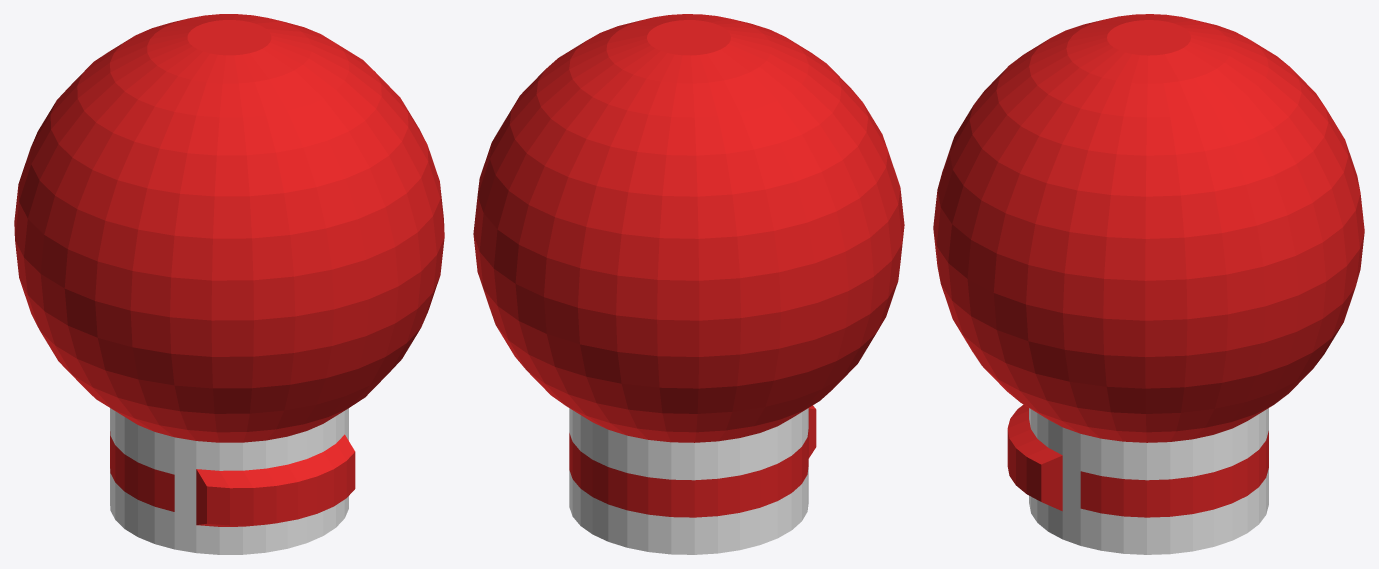
File: guante.fbx
3 views of the same model, side by side, from view 1: azimuth 30°, elevation 25°; view 2: azimuth 150°, elevation 25°; view 3: azimuth 270°, elevation 25° (orthographic).
Visible parts, largest first — view 1: Guante; view 2: Guante; view 3: Guante.
Part boxes in pixels (<box>): Guante: <box>14,14,444,554</box>; Guante: <box>473,14,904,554</box>; Guante: <box>933,14,1364,554</box>.
Size of the model in its own units: 200 by 240 by 200.
